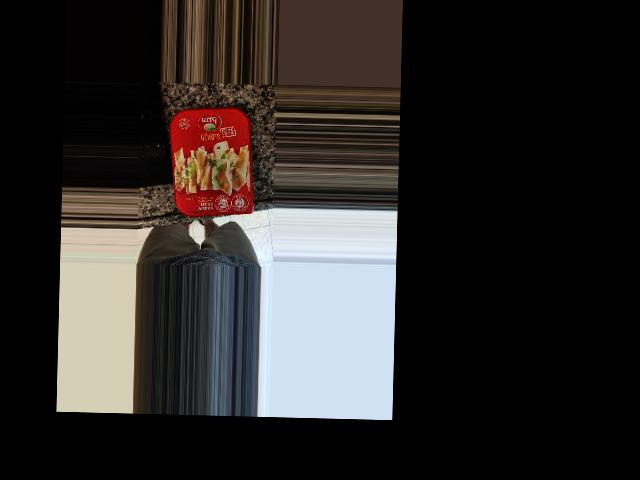cheese: (154, 128, 245, 240)
